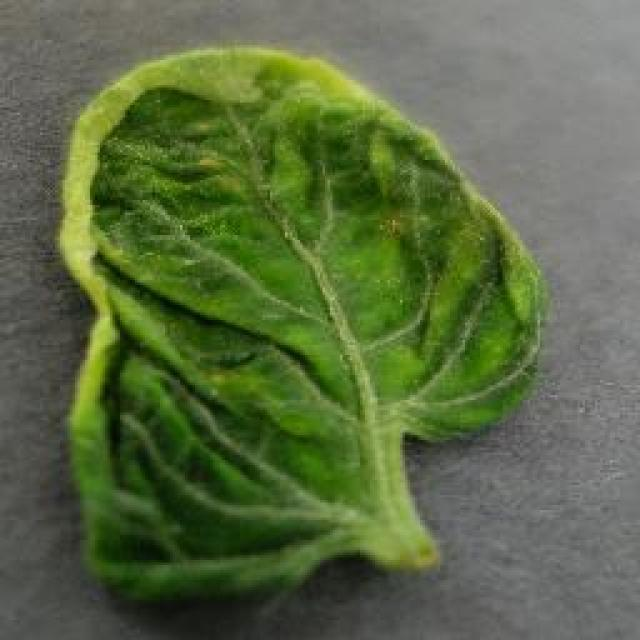Tomato yellow virus leaf: (52, 42, 548, 640)
